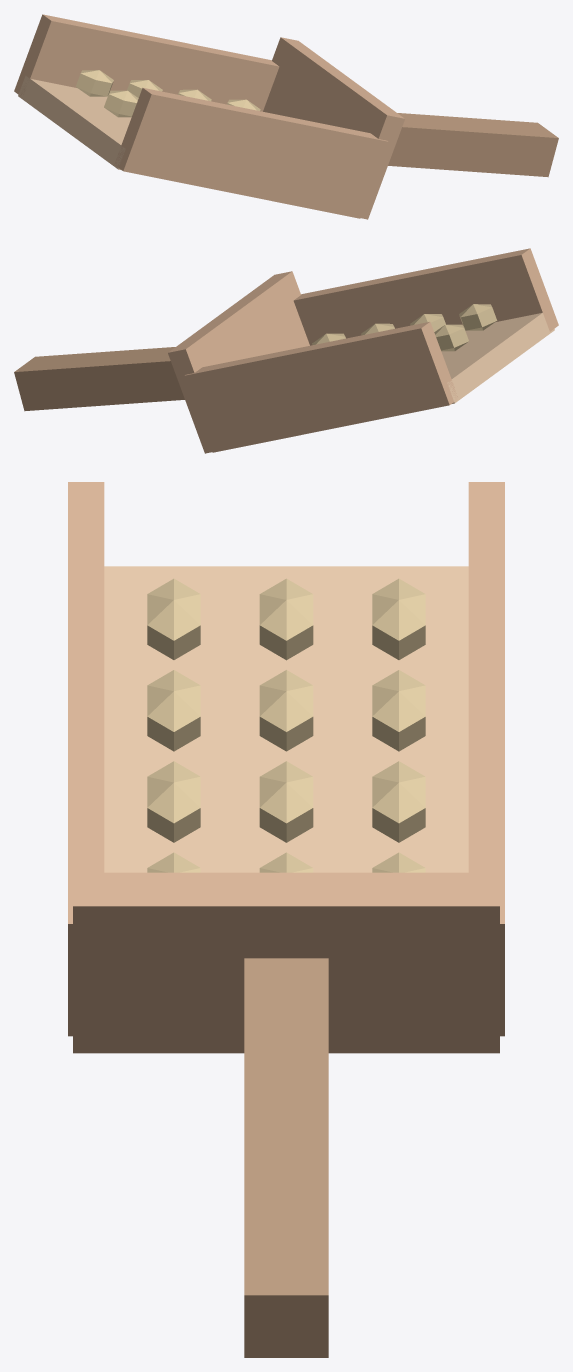
The model's file is crafted-tool-feed-scoop-1.glb.
The picture shows the model from 3 angles, top to bottom: view 1: azimuth 30°, elevation 25°; view 2: azimuth 150°, elevation 25°; view 3: azimuth 270°, elevation 25°; orthographic projection. The views are drawn at different scales.
Visible parts, largest first — view 1: side-1, side, handle, back, floor, grain, grain-4, grain-1; view 2: side, side-1, handle, back, floor, grain-8, grain-4, grain-9; view 3: floor, back, handle, side, side-1, grain-4, grain-6, grain-5, grain-1, grain-9, grain-2, grain-10 (+2 smaller).
Part boxes in pixels (x1,y1,x2,y2): side-1: [114, 88, 388, 218]; side: [14, 14, 279, 111]; handle: [388, 113, 558, 177]; back: [263, 37, 404, 219]; floor: [18, 75, 131, 169]; grain: [75, 70, 113, 96]; grain-4: [104, 90, 138, 117]; grain-1: [127, 80, 162, 97]; side: [184, 322, 457, 452]; side-1: [293, 248, 558, 345]; handle: [14, 347, 184, 411]; back: [168, 271, 309, 453]; floor: [441, 312, 554, 403]; grain-8: [459, 304, 497, 330]; grain-4: [434, 324, 468, 351]; grain-9: [410, 314, 445, 331]; floor: [104, 566, 468, 872]; back: [73, 872, 499, 1053]; handle: [244, 958, 328, 1357]; side: [468, 482, 504, 1036]; side-1: [68, 482, 104, 1036]; grain-4: [259, 578, 313, 660]; grain-6: [259, 761, 313, 842]; grain-5: [259, 670, 313, 751]; grain-1: [372, 670, 425, 751]; grain-9: [147, 670, 200, 751]; grain-2: [372, 761, 425, 842]; grain-10: [147, 761, 200, 842].
Bounding box in the file's own units: 0.8581 × 0.3803 × 0.338.
